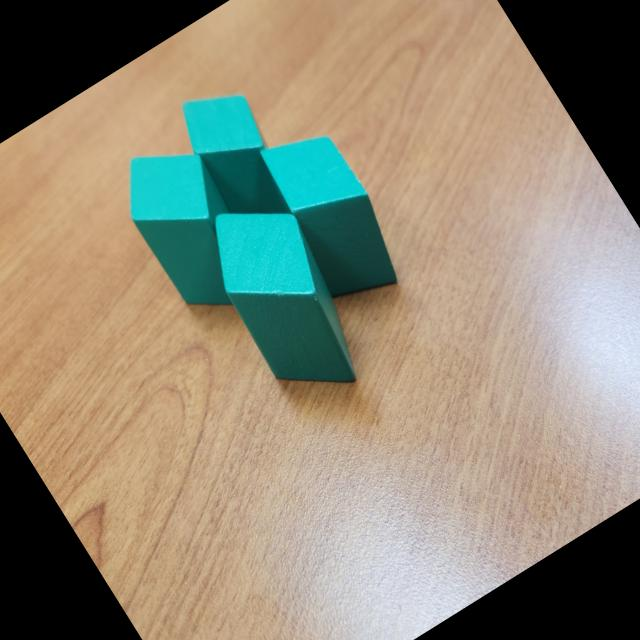green: (185, 178, 387, 416), (102, 125, 280, 332), (244, 113, 416, 316), (166, 72, 312, 244)
